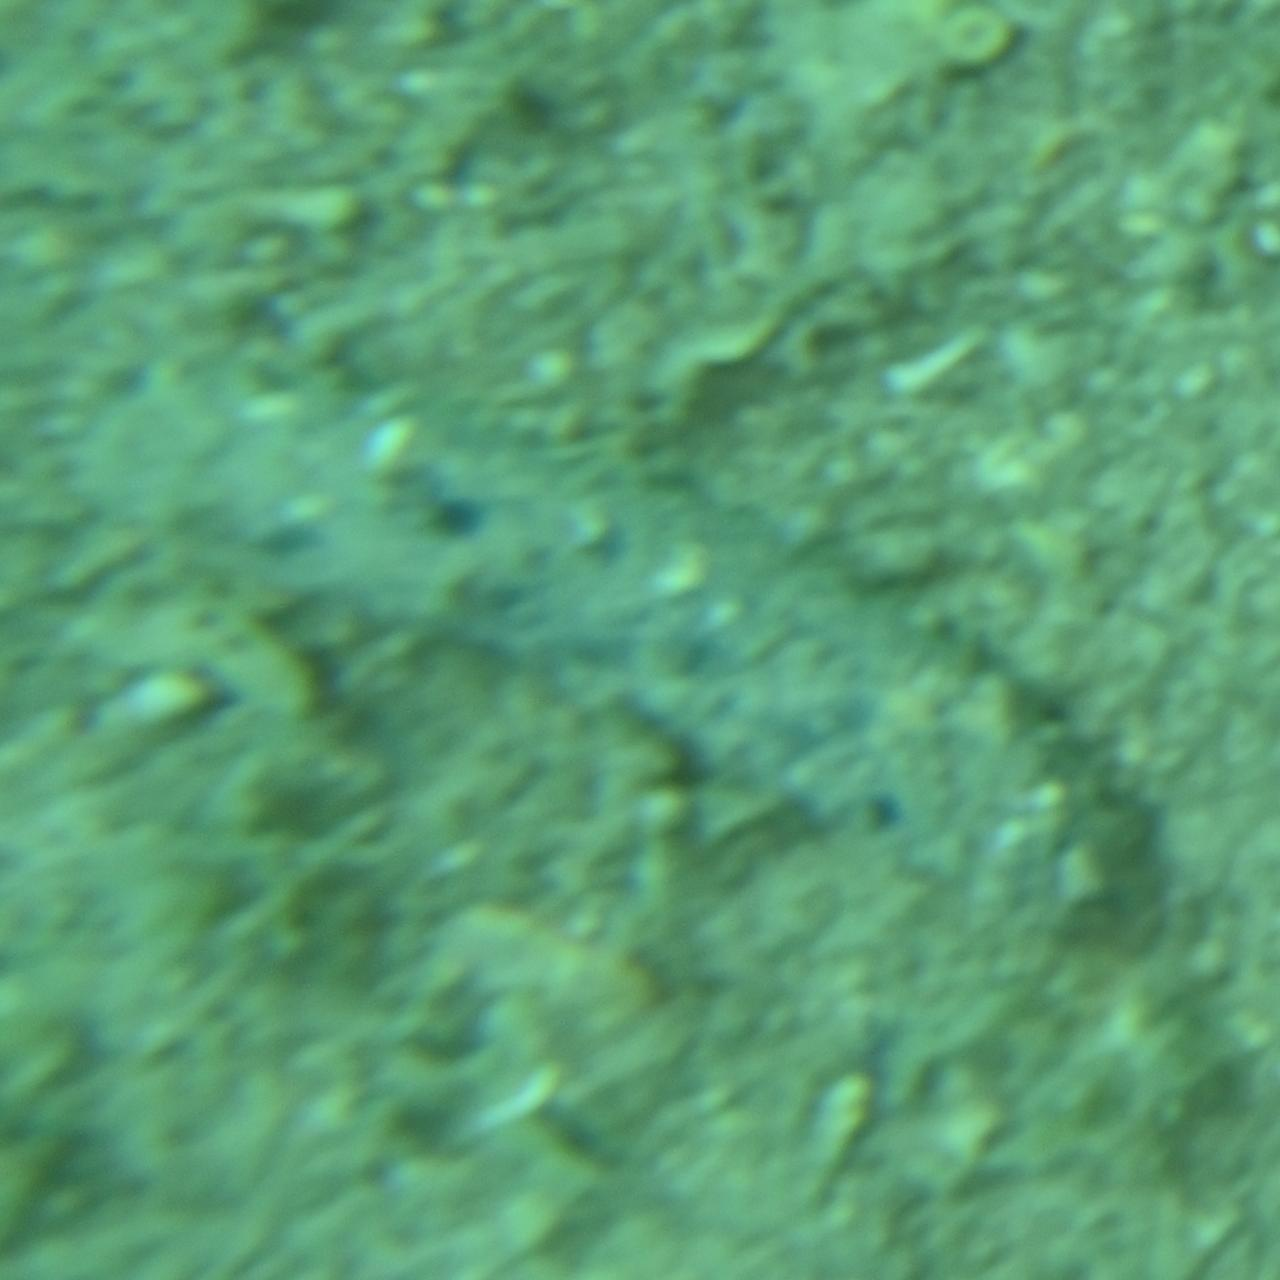Holothuria tubulosa: (87, 322, 1140, 958)
